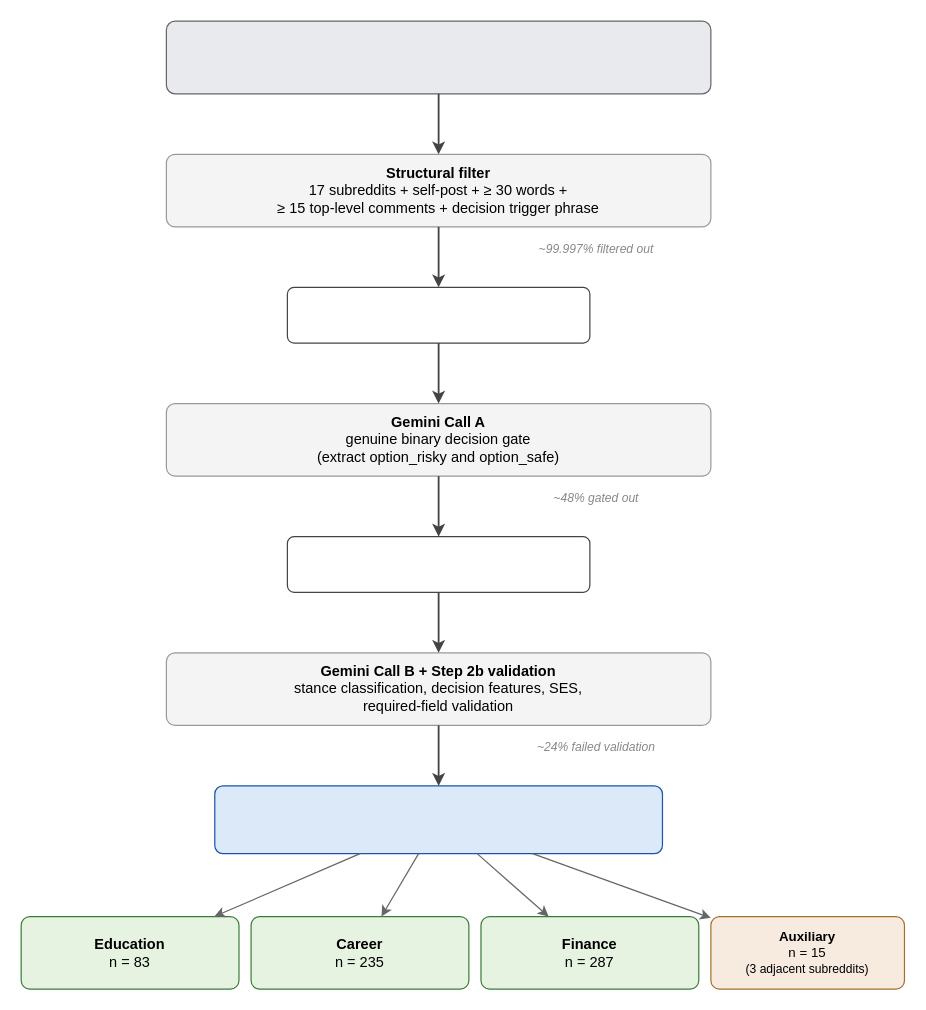
This 926x1010 diagram has some shape labels left out. The shapes that lost their labels are listed below. From the top down, each one's centre as x and y in pixels, then its label:
[438,57]: Raw Pushshift dump (2026-03) ~45,000,000 submissions
[438,314]: 1,562 candidate posts
[438,563]: 811 candidate posts
[438,819]: 620 qualified posts (final corpus)
